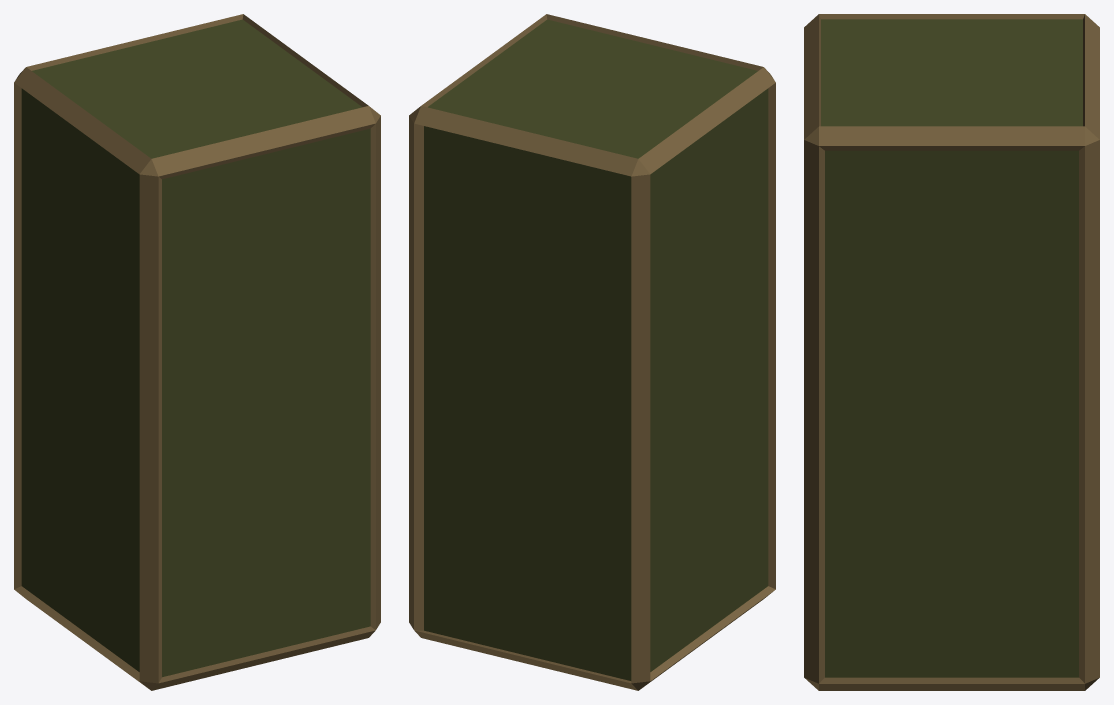
Rendered from SideStructure.fbx.
3 views of the same model, side by side, from view 1: azimuth 30°, elevation 25°; view 2: azimuth 150°, elevation 25°; view 3: azimuth 270°, elevation 25° (orthographic). The views are drawn at different scales.
Parts seen in each view (by area): view 1: pCube5; view 2: pCube5; view 3: pCube5.
Part boxes in pixels (x1,y1,x2,y2): pCube5: (14,14,380,690); pCube5: (409,14,775,690); pCube5: (804,14,1099,690).
Bounding box in the file's own units: 1 × 2.11 × 1.
